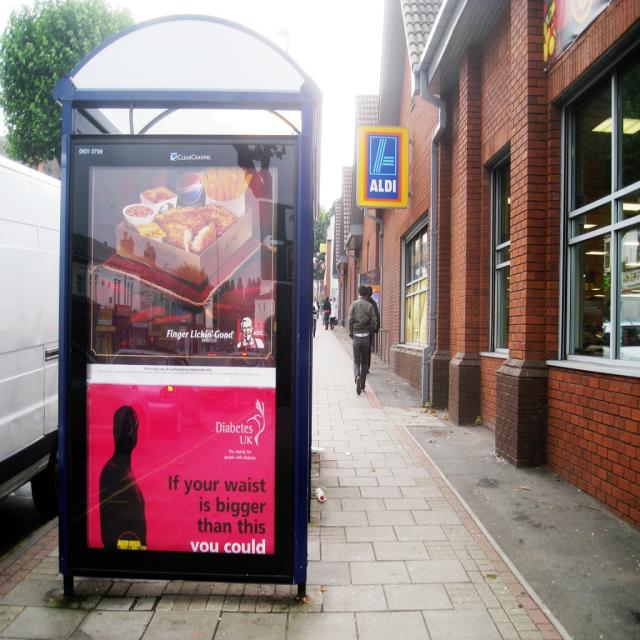aldi: (359, 129, 410, 208)
